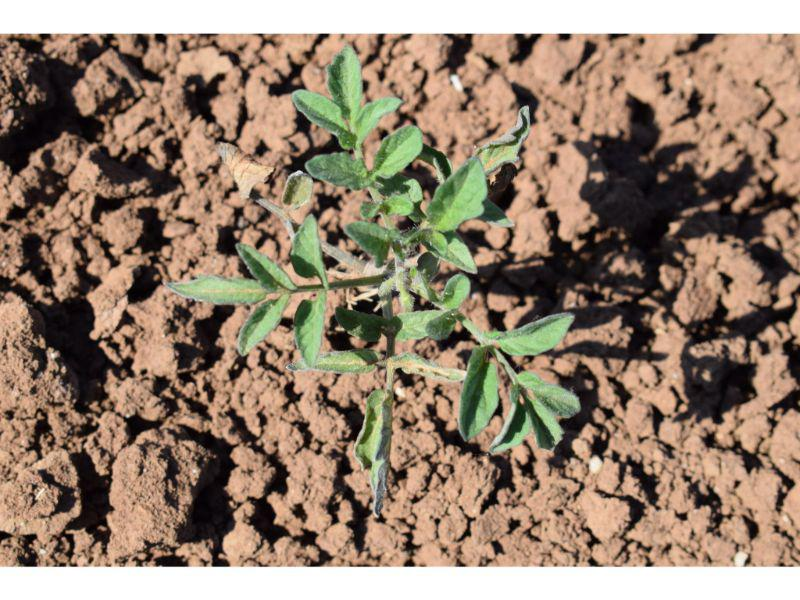tomato: (165, 48, 581, 519)
